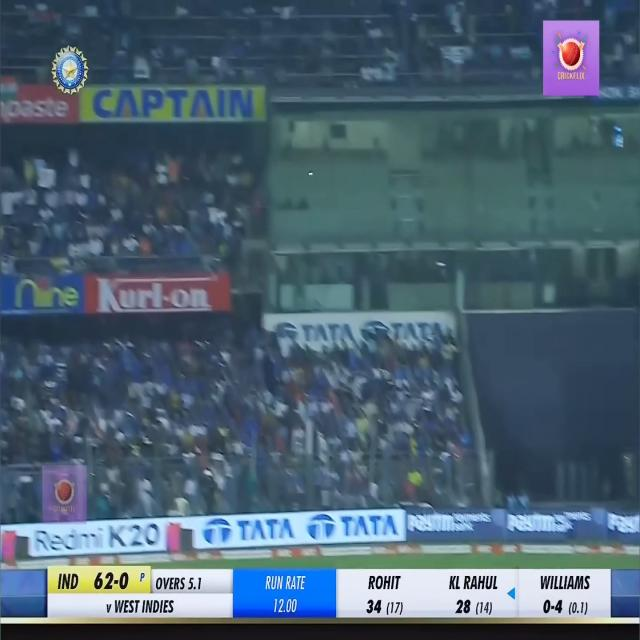partially_visible: (405, 510, 457, 537), (506, 510, 556, 538)
